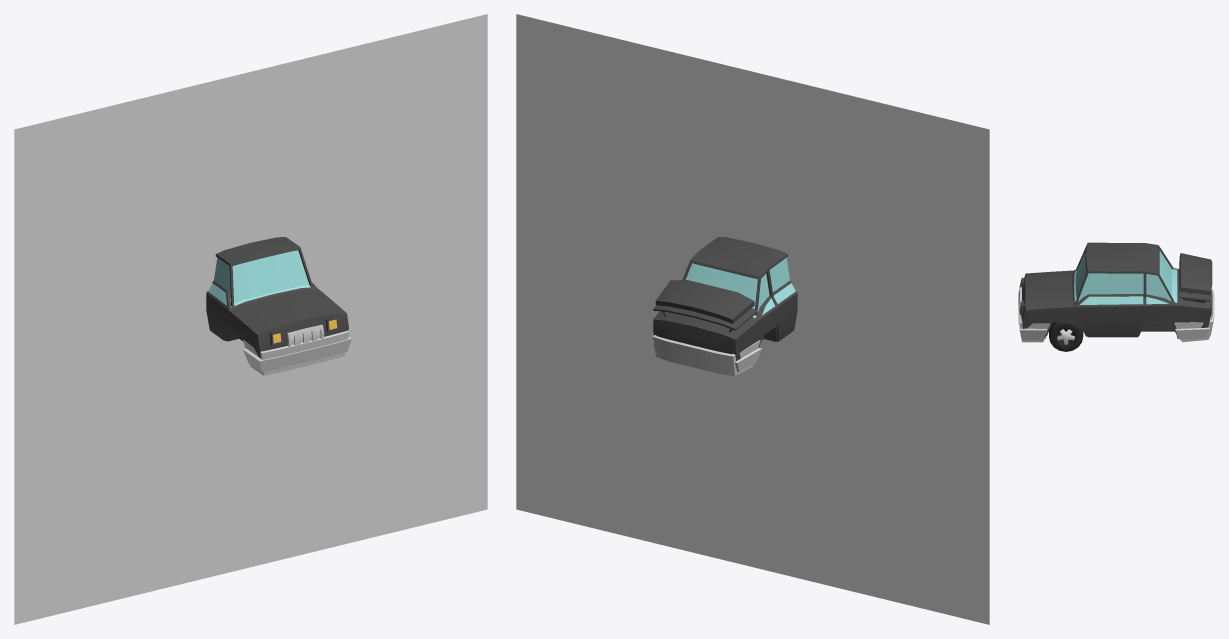
File: KartAssets.fbx
3 views of the same model, side by side, from view 1: azimuth 30°, elevation 25°; view 2: azimuth 150°, elevation 25°; view 3: azimuth 270°, elevation 25° (orthographic). The views are drawn at different scales.
Parts seen in each view (by area): view 1: Checkpoint, Body.001, Body.002; view 2: Checkpoint, Body.002, Body.001; view 3: Body.001, Body.002, Wheel.
Boxes of the visible parts, x1,y1,x2,y2 form: Checkpoint: (14,14,487,624); Body.001: (206,280,351,372); Body.002: (214,237,349,375); Checkpoint: (516,14,989,624); Body.002: (652,237,789,375); Body.001: (652,280,797,371); Body.001: (1018,261,1211,340); Body.002: (1018,242,1214,342); Wheel: (1049,322,1083,351).
Bounding box in the file's own units: 1000 × 1000 × 427.
